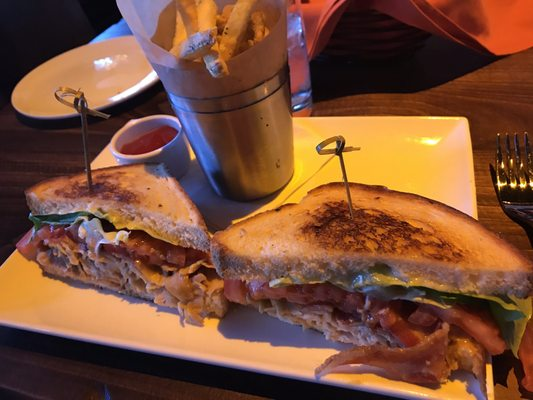burger: (489, 131, 533, 255)
pizza: (118, 0, 296, 203), (108, 115, 190, 179)
soup: (209, 181, 533, 400), (17, 162, 228, 327)
